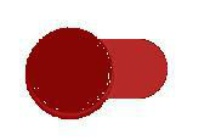Switch: (1, 1, 209, 139)
